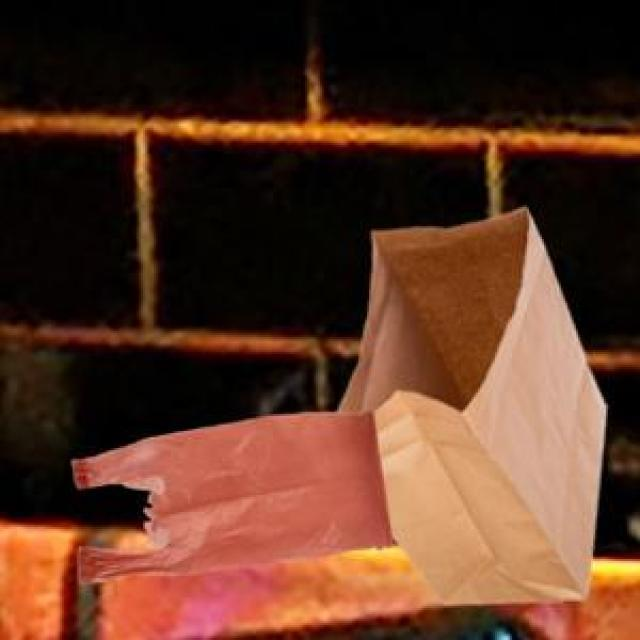paper: (333, 205, 602, 600)
